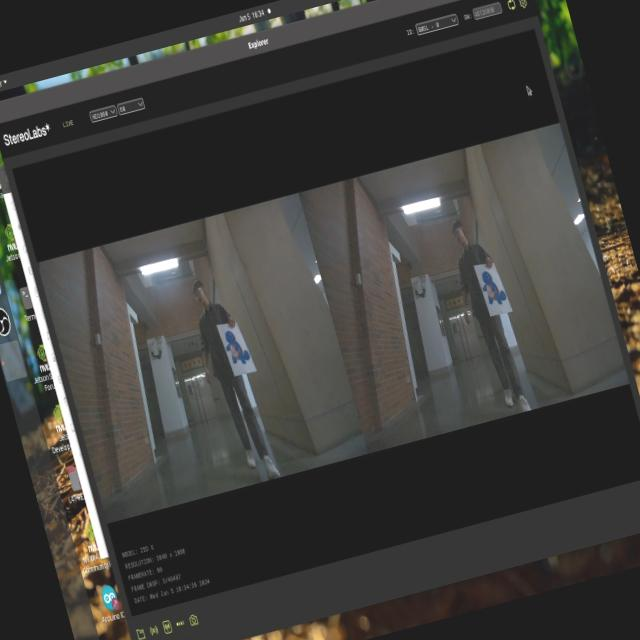blue: (471, 262, 520, 328), (217, 320, 256, 380)
